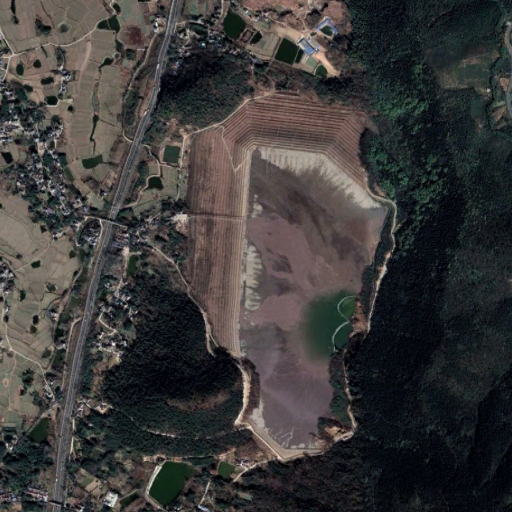tp: (186, 92, 396, 462)
